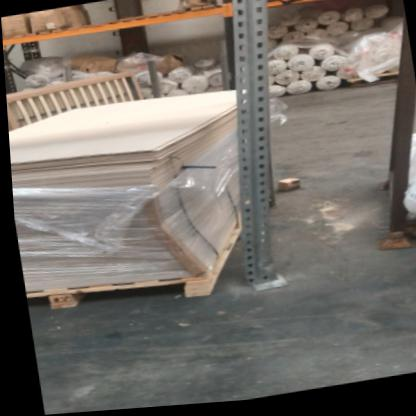vertical_damage: (237, 240, 292, 308)
